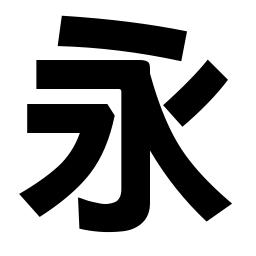D: (56, 13, 188, 51)
HSZ: (114, 58, 152, 99)
Hs: (34, 57, 81, 91)
Ne: (193, 189, 235, 223)
PNc: (149, 102, 189, 150)
PZe: (17, 182, 54, 218)
Ps: (194, 58, 230, 96)
SG: (75, 193, 152, 235)
Sm: (119, 156, 151, 182)
TPZ: (75, 101, 115, 144)
Ts: (25, 101, 55, 136)
